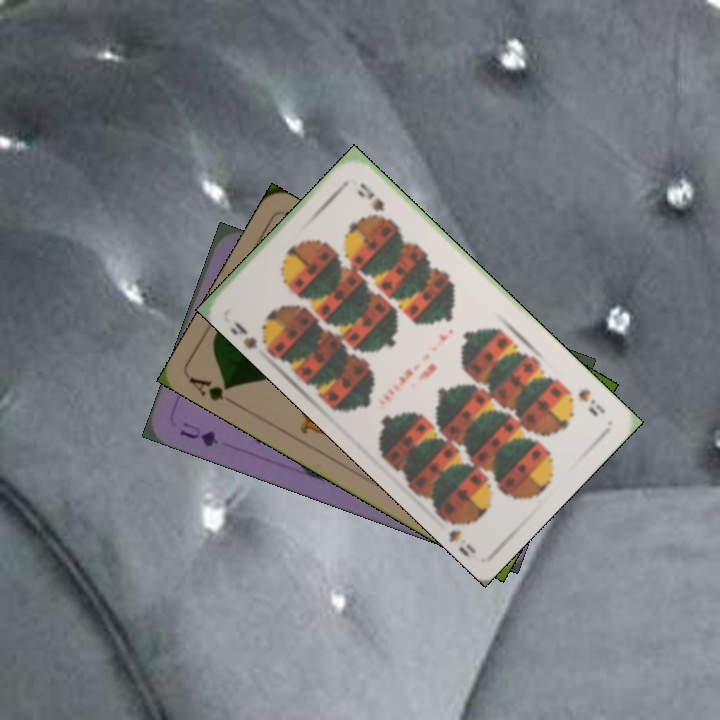GA: (185, 373, 241, 409)
GU: (175, 418, 221, 449)
S9: (227, 316, 275, 355), (574, 385, 608, 419)
